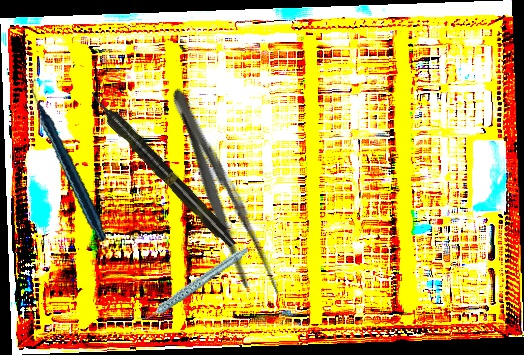Dressing Forceps: (157, 81, 286, 309)
Handpiece: (84, 86, 240, 252), (3, 77, 135, 243), (127, 246, 259, 323)
